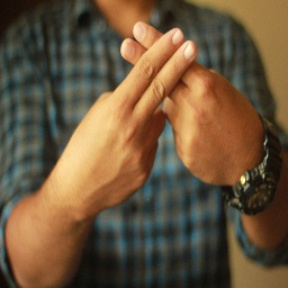F: (89, 15, 233, 164)
